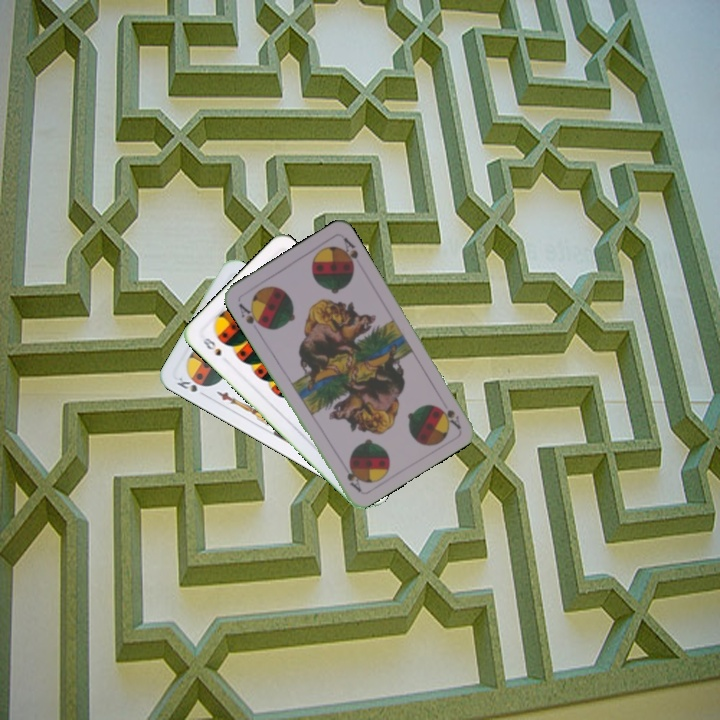S8: (198, 333, 224, 359)
SA: (235, 300, 266, 330), (435, 403, 463, 431)
SK: (172, 373, 200, 395)
